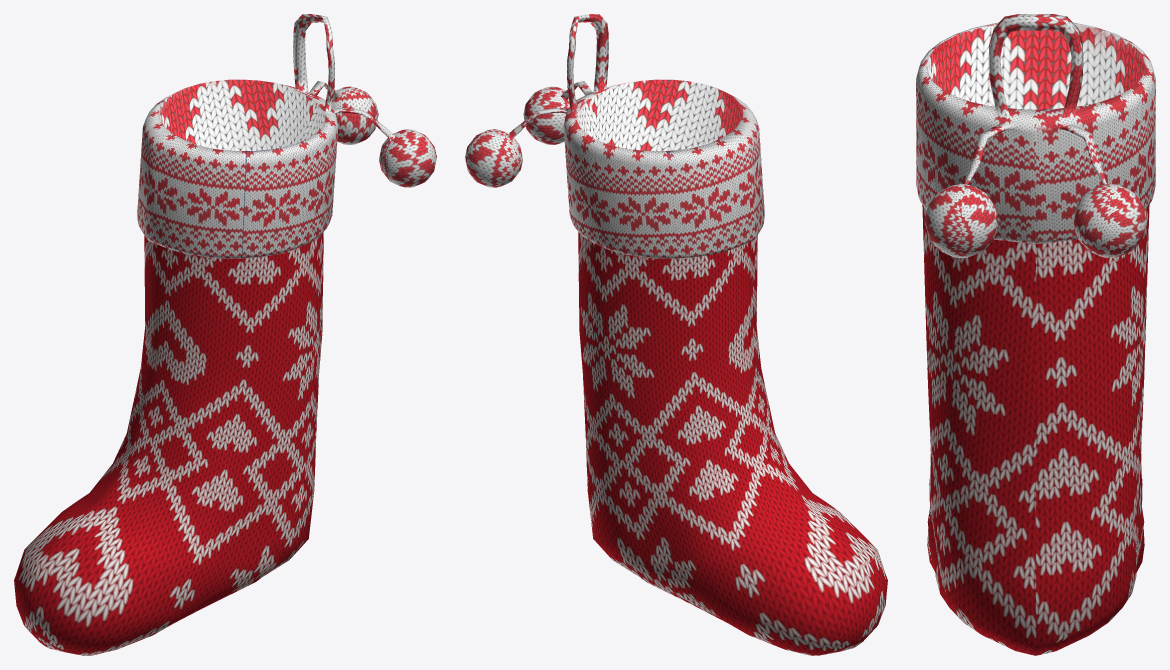
Rendered from christmas_socket.glb.
The picture shows the model from 3 angles, left to right: view 1: azimuth 30°, elevation 25°; view 2: azimuth 150°, elevation 25°; view 3: azimuth 270°, elevation 25°; orthographic projection. The views are drawn at different scales.
Parts seen in each view (by area): view 1: socket.final; view 2: socket.final; view 3: socket.final.
Part boxes in pixels (x1,y1,x2,y2): socket.final: [14, 14, 436, 655]; socket.final: [465, 14, 887, 655]; socket.final: [916, 14, 1155, 655].
Bounding box in the file's own units: 0.6219 × 0.8978 × 0.2694.
Materials: 1 (1 with a texture image).
